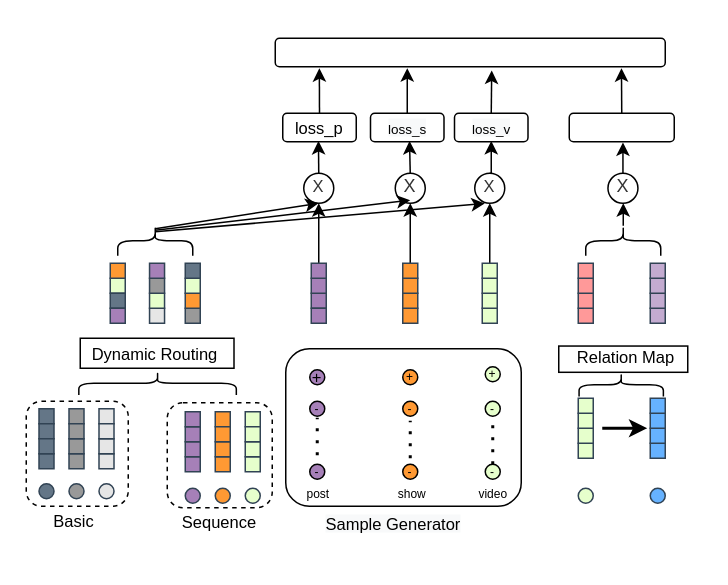
This 728x585 diagram has some shape labels left out. The shapes that lost their labels are listed below. From the top down, each one's centre as x and y in pixels, then its label:
the point at 469,52: Loss Fusion
the point at 621,127: loss_align
